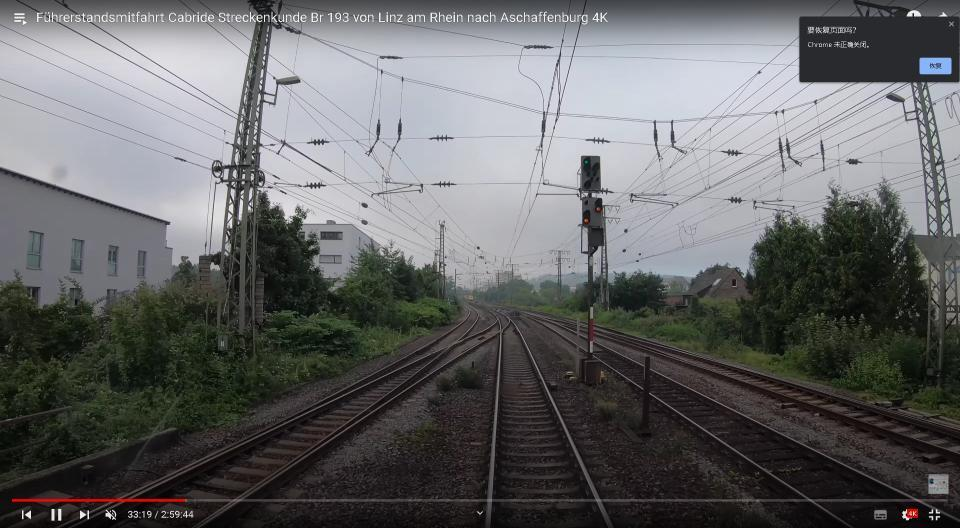Plant: (436, 366, 482, 391), (596, 400, 618, 420), (624, 412, 642, 430), (425, 390, 444, 406)
